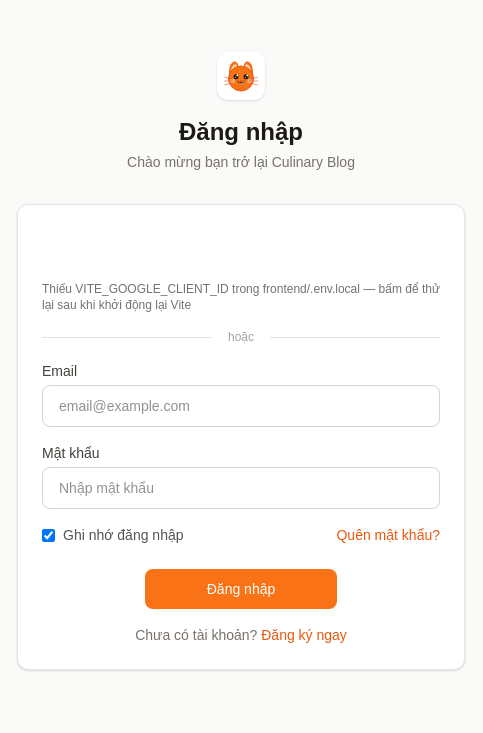
Test: LoginPage — showcase #login-2-error---invalid-credentials › distinguishes a disabled account from a temporary lockout
The width and height of the screenshot is (483, 733).
Type "an@example.com" into the field labelled "Email" at (241, 406), box [42,385,440,427]
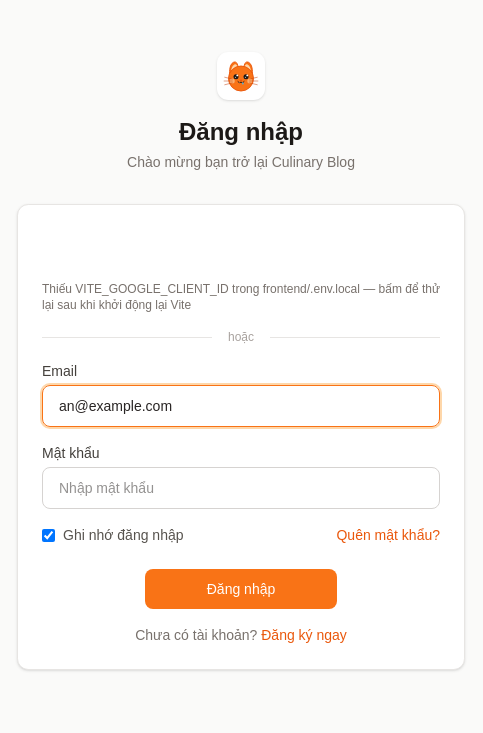
Type "Secret1!" into the password field labelled "Mật khẩu" at (241, 488), box [42,467,440,509]
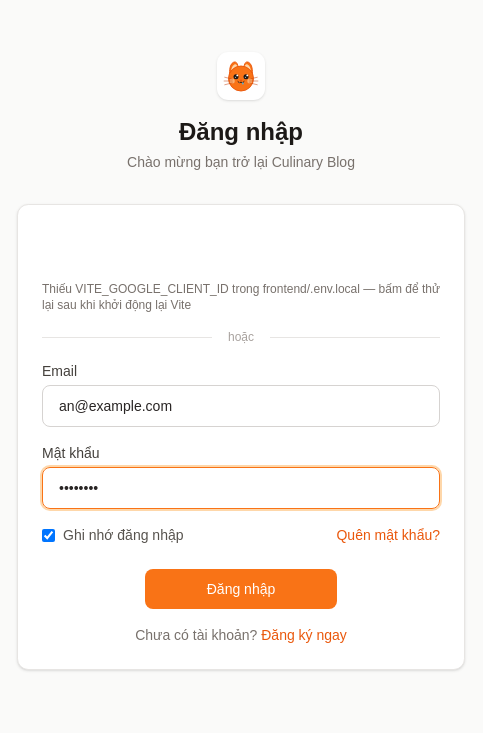
Click the button "Đăng nhập" at (241, 589), box [145,569,337,609]
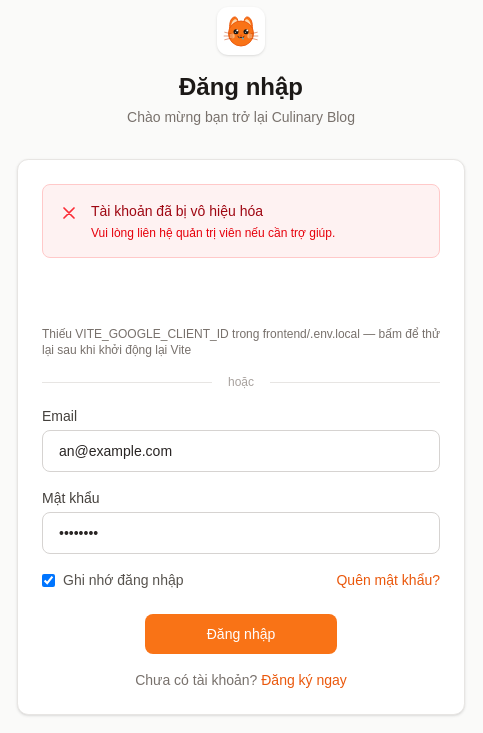
Expected: the message shows "Tài khoản đã bị vô hiệu hóa", [91,203,263,219]
